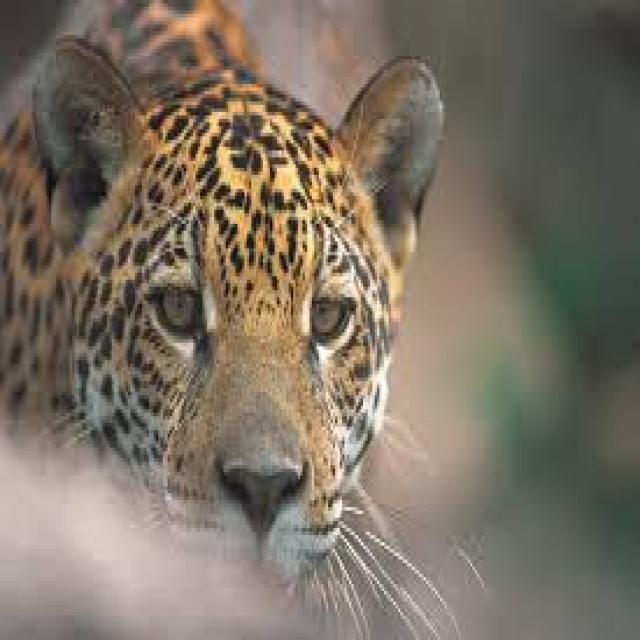Jaguar: (16, 59, 435, 503)
